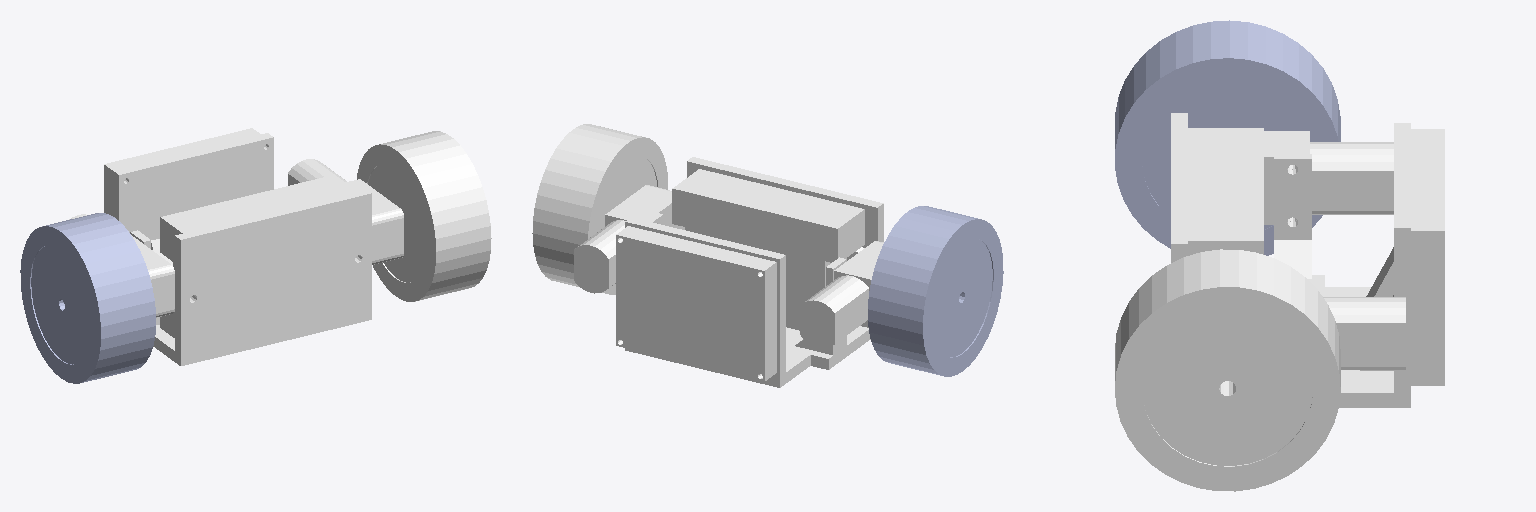
The robot description file, URDF, robot "robot_assembly.SLDASM":
<?xml version="1.0" encoding="utf-8"?>
<!-- This URDF was automatically created by SolidWorks to URDF Exporter! Originally created by [author] ([email redacted]) 
     Commit Version: 1.6.0-4-g7f85cfe  Build Version: 1.6.7995.38578
     For more information, please see http://wiki.ros.org/sw_urdf_exporter -->
<robot
  name="robot_assembly.SLDASM">
  <link
    name="base_link">
    <inertial>
      <origin
        xyz="3.2814E-18 0.026189 0.001556"
        rpy="0 0 0" />
      <mass
        value="0.26433" />
      <inertia
        ixx="0.00015157"
        ixy="2.1101E-20"
        ixz="2.5808E-20"
        iyy="0.00020961"
        iyz="-1.0564E-06"
        izz="0.0001781" />
    </inertial>
    <visual>
      <origin
        xyz="0 0 0"
        rpy="0 0 0" />
      <geometry>
        <mesh
          filename="package://robot_assembly.SLDASM/meshes/base_link.STL" />
      </geometry>
      <material
        name="">
        <color
          rgba="1 1 1 1" />
      </material>
    </visual>
    <collision>
      <origin
        xyz="0 0 0"
        rpy="0 0 0" />
      <geometry>
        <mesh
          filename="package://robot_assembly.SLDASM/meshes/base_link.STL" />
      </geometry>
    </collision>
  </link>
  <link
    name="RightWheelLink">
    <inertial>
      <origin
        xyz="-6.9389E-18 -4.8572E-17 -0.015957"
        rpy="0 0 0" />
      <mass
        value="0.086761" />
      <inertia
        ixx="2.8632E-05"
        ixy="1.6941E-21"
        ixz="-3.3692E-21"
        iyy="2.8632E-05"
        iyz="-1.2838E-20"
        izz="4.7824E-05" />
    </inertial>
    <visual>
      <origin
        xyz="0 0 0"
        rpy="0 0 0" />
      <geometry>
        <mesh
          filename="package://robot_assembly.SLDASM/meshes/RightWheelLink.STL" />
      </geometry>
      <material
        name="">
        <color
          rgba="0.79216 0.81961 0.93333 1" />
      </material>
    </visual>
    <collision>
      <origin
        xyz="0 0 0"
        rpy="0 0 0" />
      <geometry>
        <mesh
          filename="package://robot_assembly.SLDASM/meshes/RightWheelLink.STL" />
      </geometry>
    </collision>
  </link>
  <joint
    name="RightWheelJoint"
    type="continuous">
    <origin
      xyz="-0.063 -0.0185 0.032"
      rpy="-1.5708 -1.257 -1.5708" />
    <parent
      link="base_link" />
    <child
      link="RightWheelLink" />
    <axis
      xyz="0 0 1" />
  </joint>
  <link
    name="LeftWheelLink">
    <inertial>
      <origin
        xyz="0 0 0"
        rpy="0 0 0" />
      <mass
        value="0" />
      <inertia
        ixx="0"
        ixy="0"
        ixz="0"
        iyy="0"
        iyz="0"
        izz="0" />
    </inertial>
    <visual>
      <origin
        xyz="0 0 0"
        rpy="0 0 0" />
      <geometry>
        <mesh
          filename="package://robot_assembly.SLDASM/meshes/LeftWheelLink.STL" />
      </geometry>
      <material
        name="">
        <color
          rgba="1 1 1 1" />
      </material>
    </visual>
    <collision>
      <origin
        xyz="0 0 0"
        rpy="0 0 0" />
      <geometry>
        <mesh
          filename="package://robot_assembly.SLDASM/meshes/LeftWheelLink.STL" />
      </geometry>
    </collision>
  </link>
  <joint
    name="LeftWheelJoint"
    type="continuous">
    <origin
      xyz="0.063 -0.0185 0.032"
      rpy="-1.5708 -1.1445 1.5708" />
    <parent
      link="base_link" />
    <child
      link="LeftWheelLink" />
    <axis
      xyz="0 0 1" />
  </joint>
</robot>

--- Facts derived from the render (not from the file) ---
The picture shows the robot from 3 angles, left to right: view 1: azimuth 30°, elevation 25°; view 2: azimuth 150°, elevation 25°; view 3: azimuth 270°, elevation 25°; orthographic projection.
Model robot_assembly.SLDASM with 3 links and 2 joints (2 continuous), rooted at base_link, posed every joint at zero.
Links seen in each view (by area): view 1: base_link, RightWheelLink, LeftWheelLink; view 2: base_link, RightWheelLink, LeftWheelLink; view 3: base_link, LeftWheelLink, RightWheelLink.
Boxes of the visible links, x1,y1,x2,y2 form: base_link: (69,128,403,365); RightWheelLink: (20,213,155,383); LeftWheelLink: (357,131,491,301); base_link: (574,157,883,387); RightWheelLink: (868,206,1003,376); LeftWheelLink: (532,124,667,294); base_link: (1171,113,1444,407); LeftWheelLink: (1115,249,1340,491); RightWheelLink: (1115,20,1340,255).
Size in the robot's own frame: 0.184 by 0.0965 by 0.066 metres.
Meshes: 3 distinct files referenced, 3 mesh visuals loaded (3 binary STL).